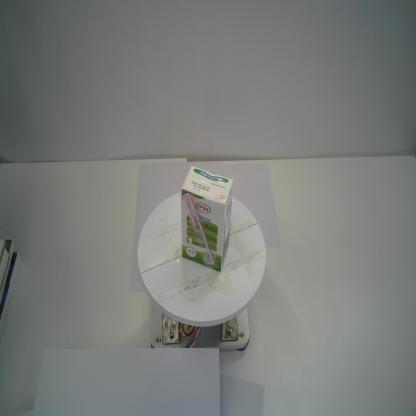Milk: (180, 164, 235, 272)
